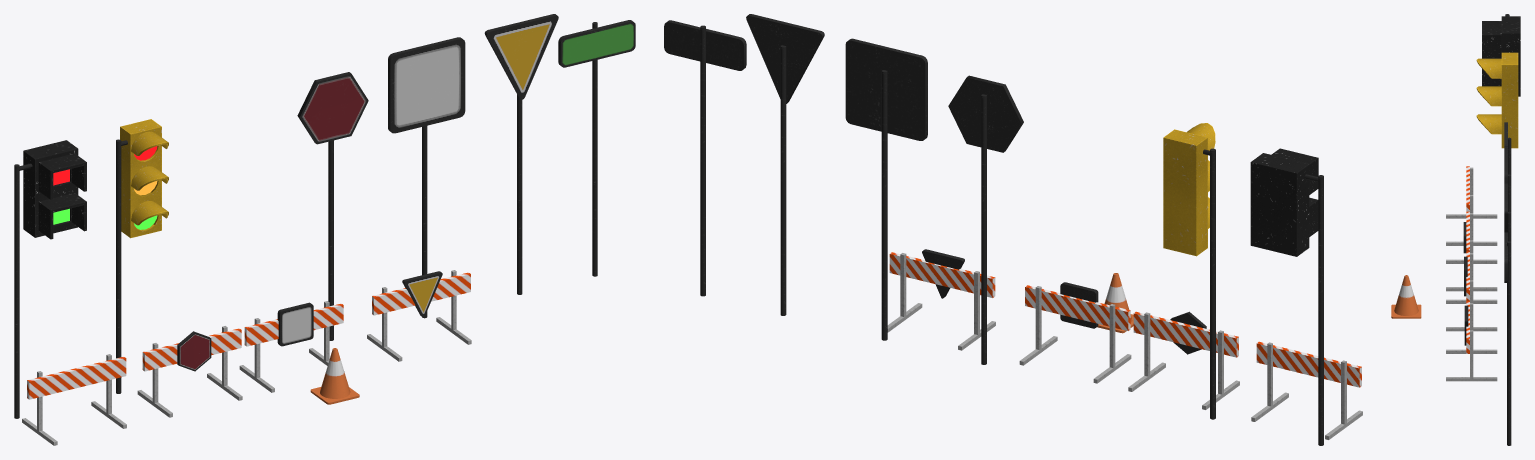
The model's file is StreetSigns.fbx.
The picture shows the model from 3 angles, left to right: view 1: azimuth 30°, elevation 25°; view 2: azimuth 150°, elevation 25°; view 3: azimuth 270°, elevation 25°; orthographic projection. The views are drawn at different scales.
Parts seen in each view (by area): view 1: StreetProps_PoleSign_2, StreetProps_PedestrianLight, StreetProps_TrafficLight, StreetProps_PoleSign_1, StreetProps_PoleSign_3, StreetProps_PoleSign_4, StreetProps_RoadBlock_3, StreetProps_RoadBlock_4, StreetProps_RoadBlock_2, StreetProps_RoadBlock_1, StreetProps_TrafficCone; view 2: StreetProps_PoleSign_2, StreetProps_PedestrianLight, StreetProps_TrafficLight, StreetProps_PoleSign_1, StreetProps_PoleSign_3, StreetProps_PoleSign_4, StreetProps_RoadBlock_3, StreetProps_RoadBlock_4, StreetProps_RoadBlock_2, StreetProps_RoadBlock_1, StreetProps_TrafficCone; view 3: StreetProps_TrafficLight, StreetProps_PedestrianLight, StreetProps_PoleSign_4, StreetProps_RoadBlock_4, StreetProps_RoadBlock_3, StreetProps_RoadBlock_2, StreetProps_TrafficCone, StreetProps_RoadBlock_1, StreetProps_PoleSign_3, StreetProps_PoleSign_2, StreetProps_PoleSign_1.
Part boxes in pixels (bbox=[...]): StreetProps_PoleSign_2: bbox=[388, 37, 465, 318]; StreetProps_PedestrianLight: bbox=[14, 140, 86, 418]; StreetProps_TrafficLight: bbox=[116, 119, 168, 393]; StreetProps_PoleSign_1: bbox=[297, 72, 368, 340]; StreetProps_PoleSign_3: bbox=[484, 14, 558, 294]; StreetProps_PoleSign_4: bbox=[558, 20, 635, 276]; StreetProps_RoadBlock_3: bbox=[239, 301, 344, 392]; StreetProps_RoadBlock_4: bbox=[367, 270, 471, 361]; StreetProps_RoadBlock_2: bbox=[137, 326, 242, 417]; StreetProps_RoadBlock_1: bbox=[22, 354, 126, 445]; StreetProps_TrafficCone: bbox=[310, 348, 359, 404]; StreetProps_PoleSign_2: bbox=[845, 38, 927, 340]; StreetProps_PedestrianLight: bbox=[1250, 148, 1323, 445]; StreetProps_TrafficLight: bbox=[1163, 123, 1215, 419]; StreetProps_PoleSign_1: bbox=[948, 75, 1023, 364]; StreetProps_PoleSign_3: bbox=[746, 14, 824, 315]; StreetProps_PoleSign_4: bbox=[664, 20, 746, 296]; StreetProps_RoadBlock_3: bbox=[1019, 282, 1131, 383]; StreetProps_RoadBlock_4: bbox=[887, 249, 995, 350]; StreetProps_RoadBlock_2: bbox=[1128, 311, 1239, 409]; StreetProps_RoadBlock_1: bbox=[1251, 341, 1362, 439]; StreetProps_TrafficCone: bbox=[1097, 273, 1133, 333]; StreetProps_TrafficLight: bbox=[1476, 52, 1518, 148]; StreetProps_PedestrianLight: bbox=[1482, 14, 1520, 96]; StreetProps_PoleSign_4: bbox=[1504, 232, 1511, 445]; StreetProps_RoadBlock_4: bbox=[1446, 301, 1497, 381]; StreetProps_RoadBlock_3: bbox=[1446, 251, 1497, 331]; StreetProps_RoadBlock_2: bbox=[1446, 211, 1497, 291]; StreetProps_TrafficCone: bbox=[1391, 275, 1421, 318]; StreetProps_RoadBlock_1: bbox=[1446, 166, 1497, 245]; StreetProps_PoleSign_3: bbox=[1504, 183, 1511, 241]; StreetProps_PoleSign_2: bbox=[1504, 146, 1511, 211]; StreetProps_PoleSign_1: bbox=[1504, 122, 1511, 174].
Size of the model in its own units: 11.76 by 4.86 by 2.59.
